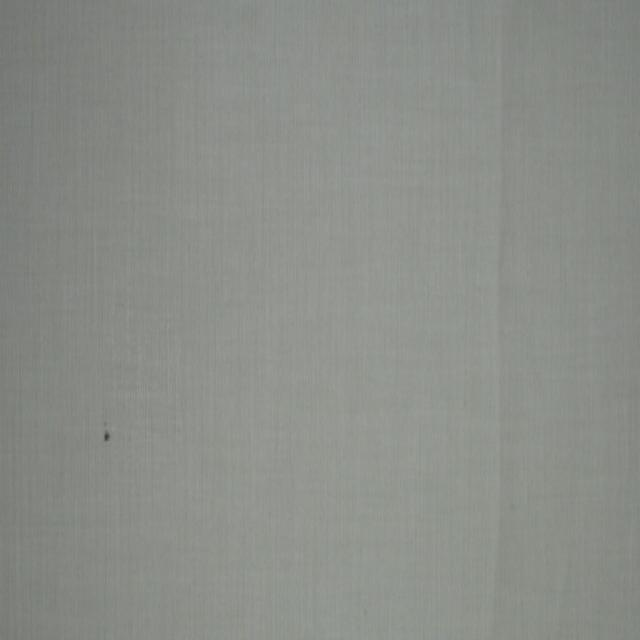dirty: (103, 424, 110, 442)
